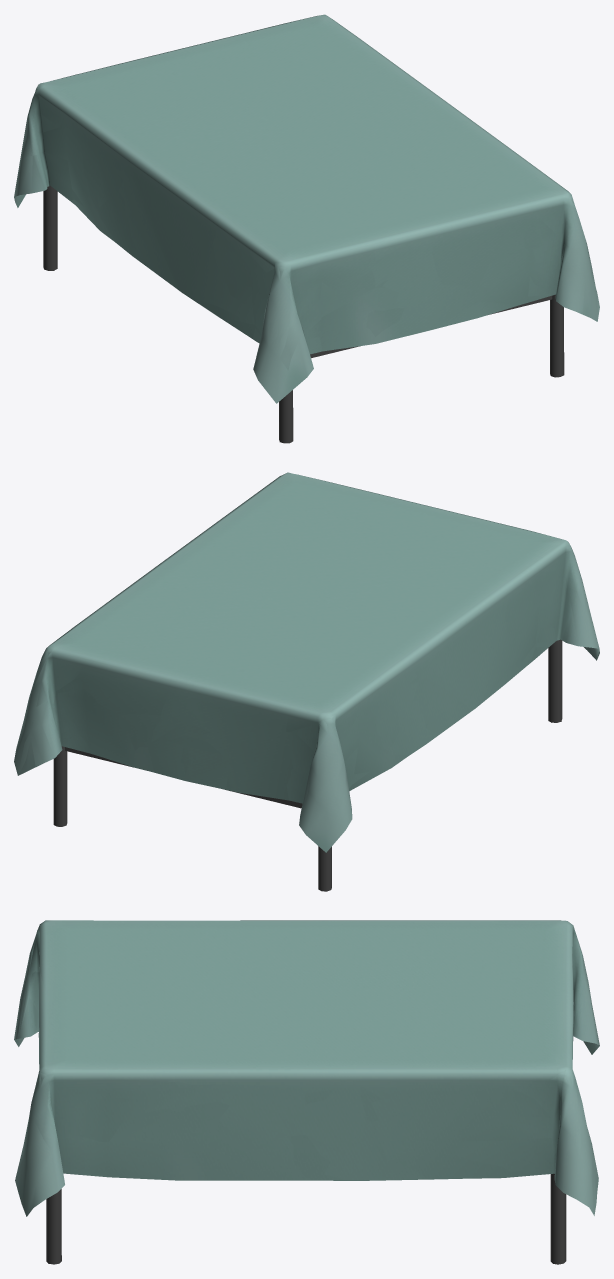
File: pi_tabel01_03_05.gltf
The picture shows the model from 3 angles, top to bottom: view 1: azimuth 30°, elevation 25°; view 2: azimuth 150°, elevation 25°; view 3: azimuth 270°, elevation 25°; orthographic projection. The views are drawn at different scales.
Parts seen in each view (by area): view 1: um_pi_tabel01_03_05_model_lod2Shape:pi_tabel01_cloth01_01_01, um_pi_tabel01_03_05_model_lod0Shape:pi_tabel01_cloth01_01_01, um_pi_tabel01_03_05_model_lod1Shape:pi_tabel01_cloth01_01_01, um_pi_tabel01_03_05_model_lod0Shape:pi_tabel01_01, um_pi_tabel01_03_05_model_lod2Shape:pi_tabel01_01, um_pi_tabel01_03_05_model_lod1Shape:pi_tabel01_01; view 2: um_pi_tabel01_03_05_model_lod0Shape:pi_tabel01_cloth01_01_01, um_pi_tabel01_03_05_model_lod2Shape:pi_tabel01_cloth01_01_01, um_pi_tabel01_03_05_model_lod1Shape:pi_tabel01_cloth01_01_01, um_pi_tabel01_03_05_model_lod0Shape:pi_tabel01_01, um_pi_tabel01_03_05_model_lod2Shape:pi_tabel01_01, um_pi_tabel01_03_05_model_lod1Shape:pi_tabel01_01; view 3: um_pi_tabel01_03_05_model_lod2Shape:pi_tabel01_cloth01_01_01, um_pi_tabel01_03_05_model_lod0Shape:pi_tabel01_cloth01_01_01, um_pi_tabel01_03_05_model_lod1Shape:pi_tabel01_cloth01_01_01, um_pi_tabel01_03_05_model_lod1Shape:pi_tabel01_01, um_pi_tabel01_03_05_model_lod2Shape:pi_tabel01_01, um_pi_tabel01_03_05_model_lod0Shape:pi_tabel01_01.
Part boxes in pixels (bbox=[...]): um_pi_tabel01_03_05_model_lod2Shape:pi_tabel01_cloth01_01_01: bbox=[14, 14, 599, 403]; um_pi_tabel01_03_05_model_lod0Shape:pi_tabel01_cloth01_01_01: bbox=[14, 16, 595, 403]; um_pi_tabel01_03_05_model_lod1Shape:pi_tabel01_cloth01_01_01: bbox=[23, 17, 588, 351]; um_pi_tabel01_03_05_model_lod0Shape:pi_tabel01_01: bbox=[43, 187, 560, 443]; um_pi_tabel01_03_05_model_lod2Shape:pi_tabel01_01: bbox=[43, 185, 564, 443]; um_pi_tabel01_03_05_model_lod1Shape:pi_tabel01_01: bbox=[43, 187, 563, 441]; um_pi_tabel01_03_05_model_lod0Shape:pi_tabel01_cloth01_01_01: bbox=[14, 472, 599, 852]; um_pi_tabel01_03_05_model_lod2Shape:pi_tabel01_cloth01_01_01: bbox=[14, 472, 599, 852]; um_pi_tabel01_03_05_model_lod1Shape:pi_tabel01_cloth01_01_01: bbox=[37, 478, 595, 829]; um_pi_tabel01_03_05_model_lod0Shape:pi_tabel01_01: bbox=[54, 639, 562, 891]; um_pi_tabel01_03_05_model_lod2Shape:pi_tabel01_01: bbox=[55, 640, 561, 891]; um_pi_tabel01_03_05_model_lod1Shape:pi_tabel01_01: bbox=[53, 652, 556, 890]; um_pi_tabel01_03_05_model_lod2Shape:pi_tabel01_cloth01_01_01: bbox=[14, 920, 599, 1216]; um_pi_tabel01_03_05_model_lod0Shape:pi_tabel01_cloth01_01_01: bbox=[14, 920, 599, 1213]; um_pi_tabel01_03_05_model_lod1Shape:pi_tabel01_cloth01_01_01: bbox=[28, 920, 599, 1198]; um_pi_tabel01_03_05_model_lod1Shape:pi_tabel01_01: bbox=[46, 1174, 565, 1264]; um_pi_tabel01_03_05_model_lod2Shape:pi_tabel01_01: bbox=[47, 1173, 566, 1264]; um_pi_tabel01_03_05_model_lod0Shape:pi_tabel01_01: bbox=[46, 1174, 565, 1264].
Size of the model in its own units: 1.5 by 0.7608 by 2.06.
Materials: 2 (2 with a texture image).
